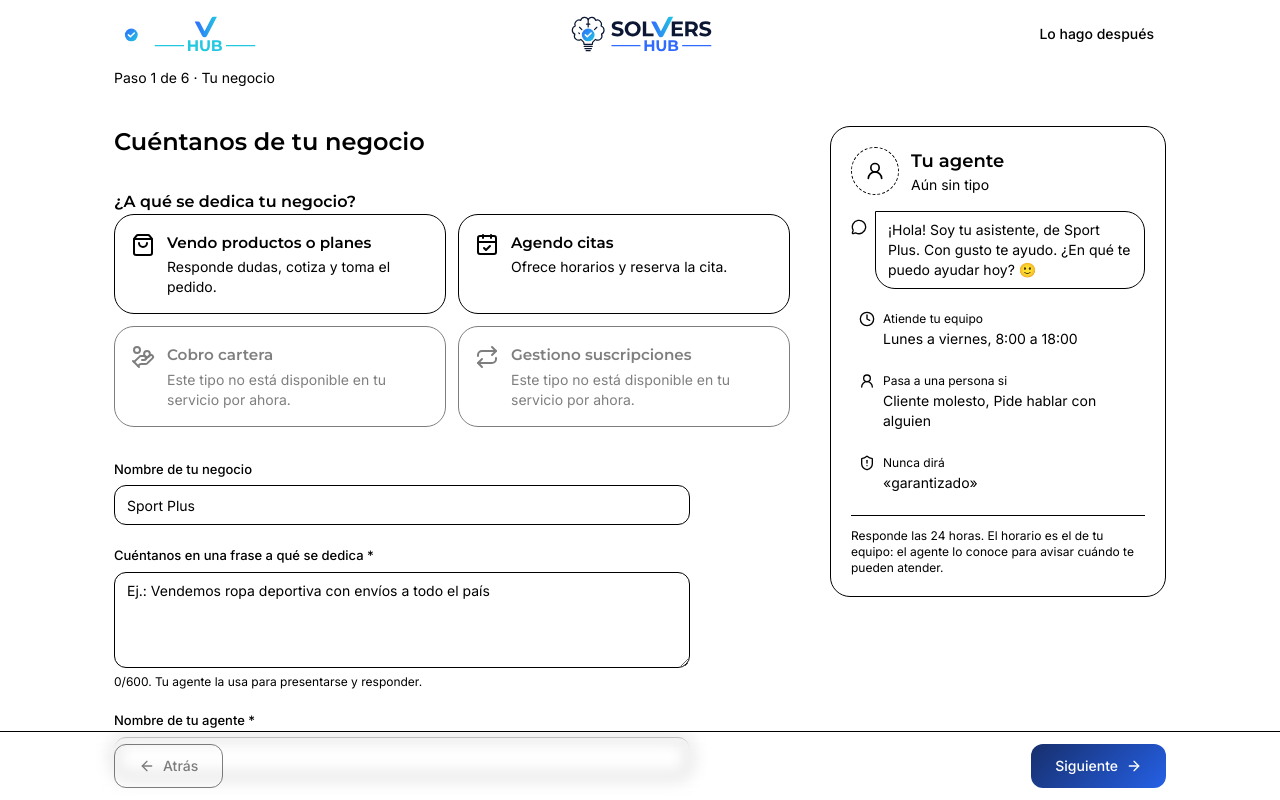
it: asistente de primer uso › guarda el paso en Identidad y pasa al siguiente
Click the radio button labelled "Vendo productos o planes" at (280, 264), box [114,214,446,314]
(page scrolled)
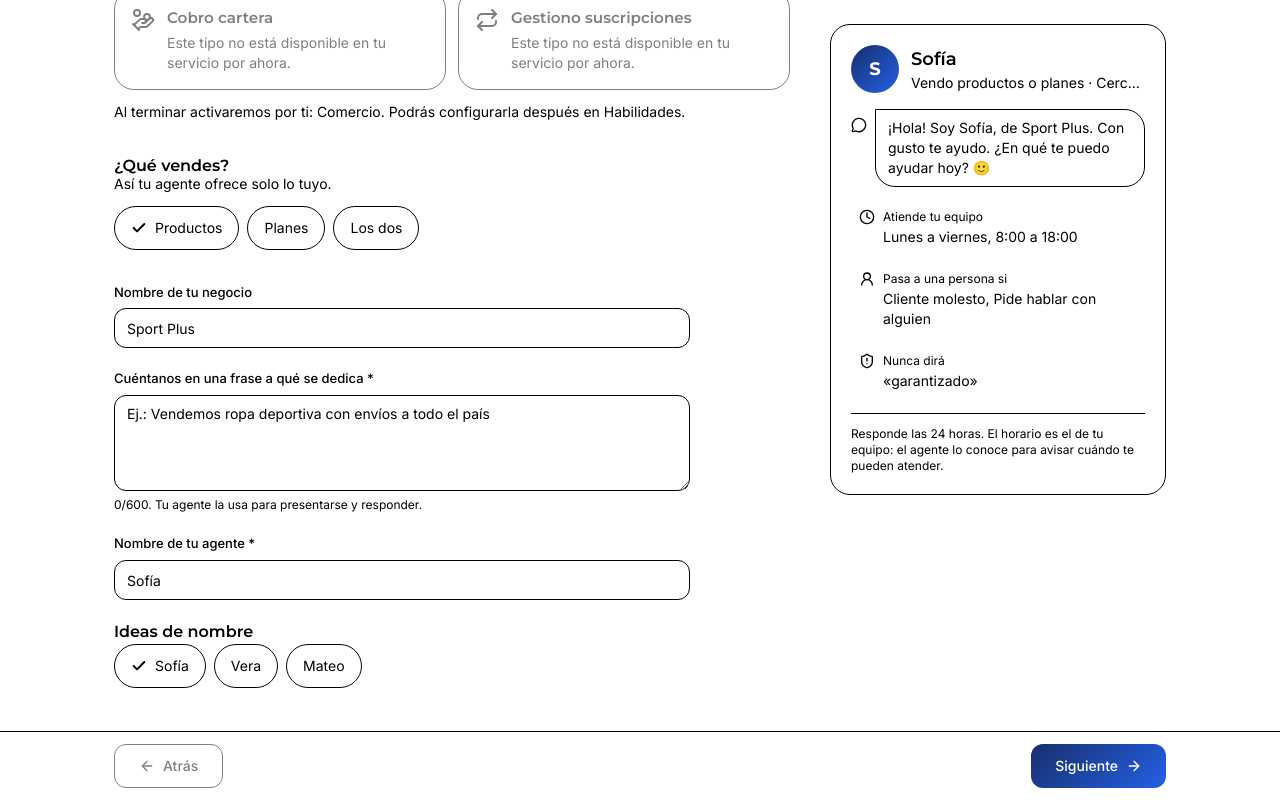
Type "Vendemos ropa deportiva con envíos" into the text box labelled "Cuéntanos en una frase a qué se dedica *" at (402, 443), box [114,395,690,491]
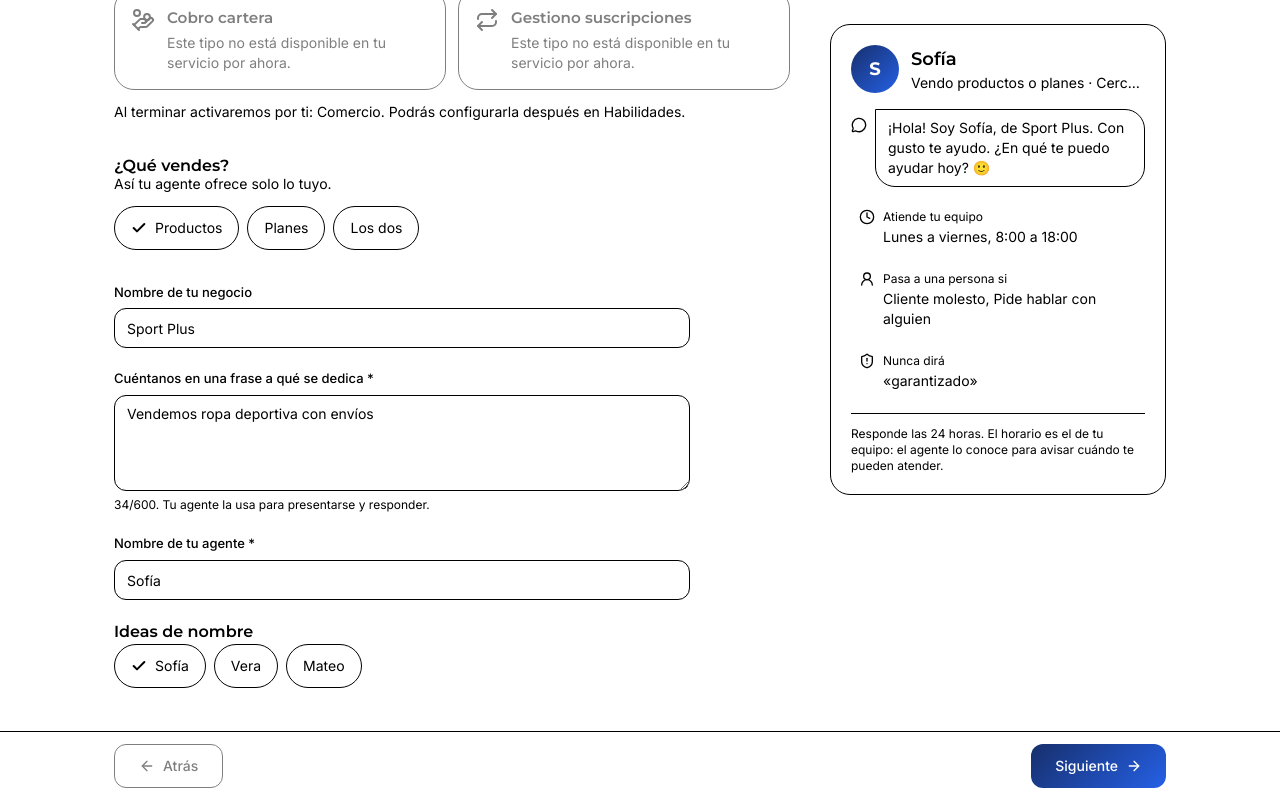
Click the button "Siguiente" at (1099, 766), box [1031,744,1166,788]
(page scrolled)
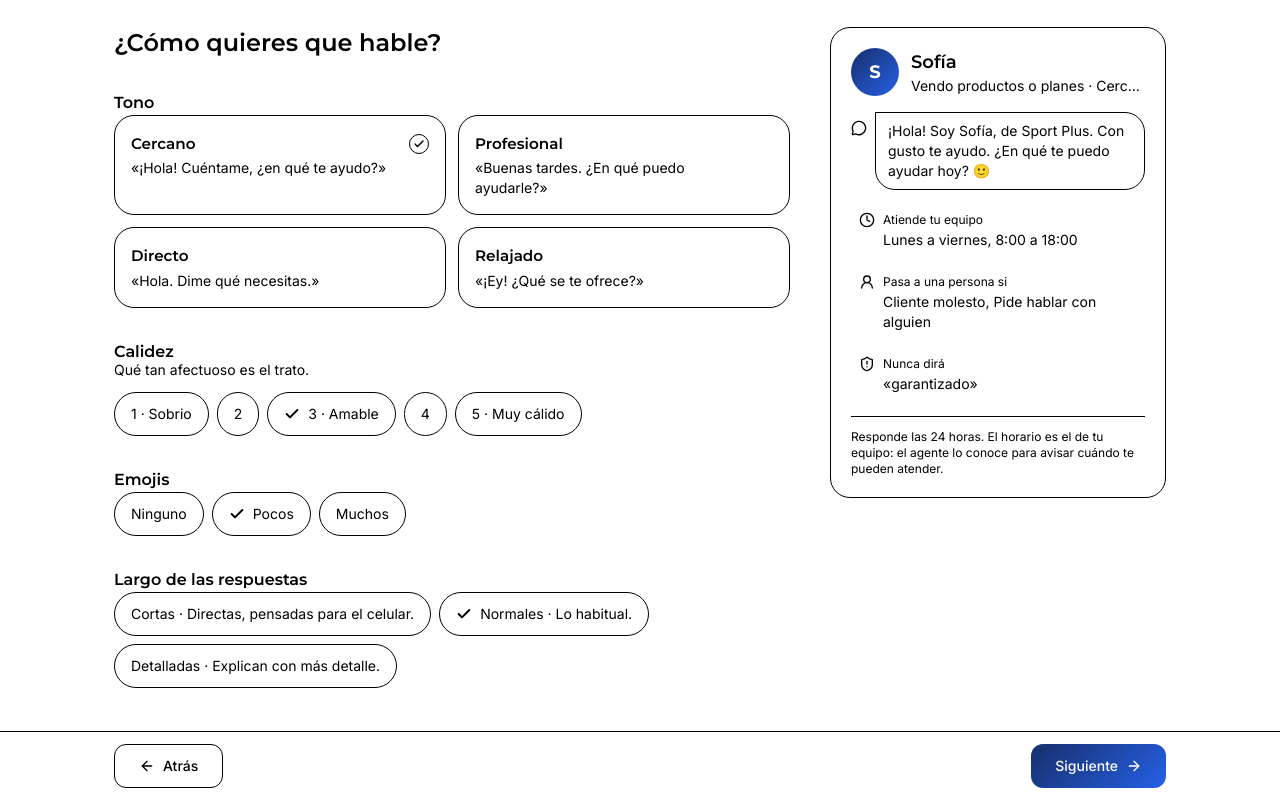
expect the heading "¿Cómo quieres que hable?" is shown: met, box [114,28,442,57]
